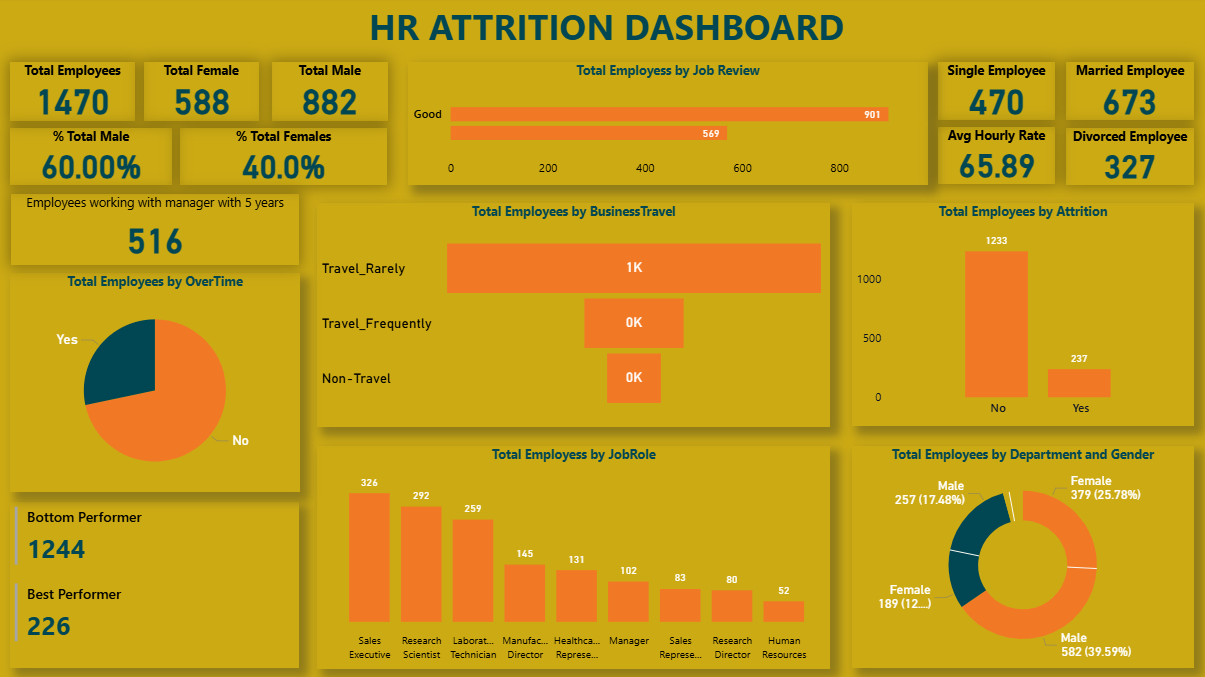

The dashboard page shown, as its layout file describes it:
{"tool":"powerbi","page":{"name":"Page 1","canvas":[1280,720],"ordinal":0},"visuals":[{"type":"card","title":"Total Employees","fields":{"Values":["HR-emp-attrition dataset.Total Employess"]},"box":[12.5,68.4,132.2,61.5],"z":0},{"type":"card","title":"Total Female","fields":{"Values":["HR-emp-attrition dataset.Total Female"]},"box":[153.8,68.4,120.8,61.5],"z":1000},{"type":"card","title":"Total Male","fields":{"Values":["HR-emp-attrition dataset.Total Male"]},"box":[289.4,68.4,121.9,61.5],"z":2000},{"type":"card","title":"% Total Male","fields":{"Values":["HR-emp-attrition dataset.% Total Male"]},"box":[12.5,137.8,170.9,60.4],"z":3000},{"type":"card","title":"% Total Females","fields":{"Values":["HR-emp-attrition dataset.% Total Female"]},"box":[192.5,137.8,218.7,60.4],"z":4000},{"type":"donutChart","title":"Total Employees by Department and Gender","fields":{"Y":["HR-emp-attrition dataset.Total Employess"],"Category":["HR-emp-attrition dataset.Department"],"Series":["HR-emp-attrition dataset.Gender"]},"box":[901.6,474,361.1,234.4],"z":5000},{"type":"pieChart","title":"Total Employees by OverTime","fields":{"Y":["HR-emp-attrition dataset.Total Employess"],"Category":["HR-emp-attrition dataset.OverTime"]},"box":[12.5,291.6,306.5,231.3],"z":6000},{"type":"barChart","fields":{"Category":["HR-emp-attrition dataset.Job Review"],"Y":["HR-emp-attrition dataset.Total Employess"]},"box":[432.9,68.4,549.1,129.9],"z":7000},{"type":"multiRowCard","fields":{"Values":["HR-emp-attrition dataset.Total Employess","HR-emp-attrition dataset.Best/Bottom Performers"]},"box":[12.5,533.2,305.3,175.4],"z":8000},{"type":"funnel","title":"Total Employees by BusinessTravel","fields":{"Category":["HR-emp-attrition dataset.BusinessTravel"],"Y":["HR-emp-attrition dataset.Total Employess"]},"box":[337.2,217.6,542.3,235.8],"z":9000},{"type":"card","title":"Divorced Employee","fields":{"Values":["HR-emp-attrition dataset.Total Employess"]},"box":[1127.5,138.3,135.1,60.2],"z":10000},{"type":"card","title":"Married Employee","fields":{"Values":["HR-emp-attrition dataset.Total Employess"]},"box":[1127.5,68.6,135.1,61.2],"z":11000},{"type":"card","title":"Single Employee","fields":{"Values":["HR-emp-attrition dataset.Total Employess"]},"box":[992.4,68.6,123.5,61.2],"z":12000},{"type":"columnChart","title":"Total Employees by Attrition","fields":{"Y":["HR-emp-attrition dataset.Total Employess"],"Category":["HR-emp-attrition dataset.Attrition"]},"box":[901.6,217.5,361.1,235.4],"z":13000},{"type":"card","title":"Avg Hourly Rate","fields":{"Values":["Avg(HR-emp-attrition dataset.HourlyRate)"]},"box":[992.4,137.2,123.5,60.2],"z":14000},{"type":"textbox","box":[13.7,0,1257.7,68.4],"z":15000},{"type":"columnChart","fields":{"Y":["HR-emp-attrition dataset.Total Employess"],"Category":["HR-emp-attrition dataset.JobRole"]},"box":[337.2,473.9,542.3,234.7],"z":16000},{"type":"card","title":"Employees working with manager with 5 years","fields":{"Values":["CountNonNull(HR-emp-attrition dataset.Emp with current managers)"]},"box":[13.7,208.5,304.2,75.2],"z":17000}]}

Visuals, with their boxes in screenshot pixels (x1, y1, x2, y2), scaled from the page's 1280x720 canvas onto the 1205x677 screenshot:
"Total Employees" card: 12 64 136 122
"Total Female" card: 145 64 259 122
"Total Male" card: 272 64 387 122
"% Total Male" card: 12 130 173 186
"% Total Females" card: 181 130 387 186
"Total Employees by Department and Gender" donutChart: 849 446 1189 666
"Total Employees by OverTime" pieChart: 12 274 300 492
barChart - HR-emp-attrition dataset.Job Review x HR-emp-attrition dataset.Total Employess: 408 64 924 186
multiRowCard - HR-emp-attrition dataset.Total Employess x HR-emp-attrition dataset.Best/Bottom Performers: 12 501 299 666
"Total Employees by BusinessTravel" funnel: 317 205 828 426
"Divorced Employee" card: 1061 130 1189 187
"Married Employee" card: 1061 65 1189 122
"Single Employee" card: 934 65 1051 122
"Total Employees by Attrition" columnChart: 849 205 1189 426
"Avg Hourly Rate" card: 934 129 1051 186
textbox: 13 0 1197 64
columnChart - HR-emp-attrition dataset.Total Employess x HR-emp-attrition dataset.JobRole: 317 446 828 666
"Employees working with manager with 5 years" card: 13 196 299 267
